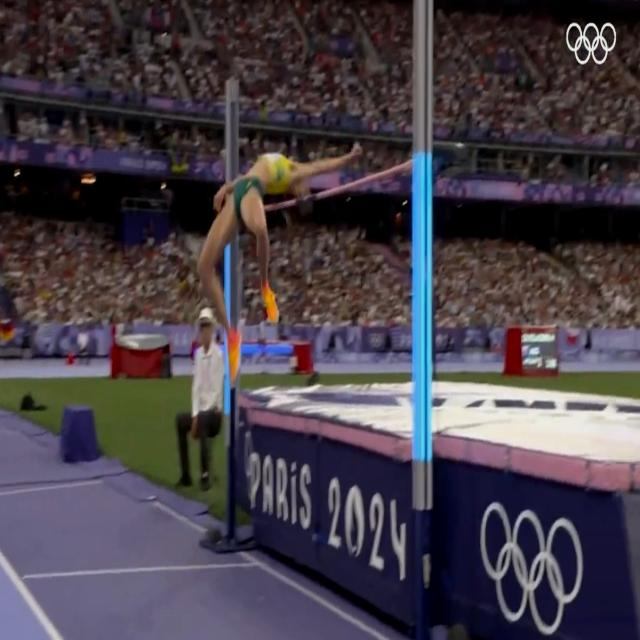jump: (195, 147, 348, 390)
